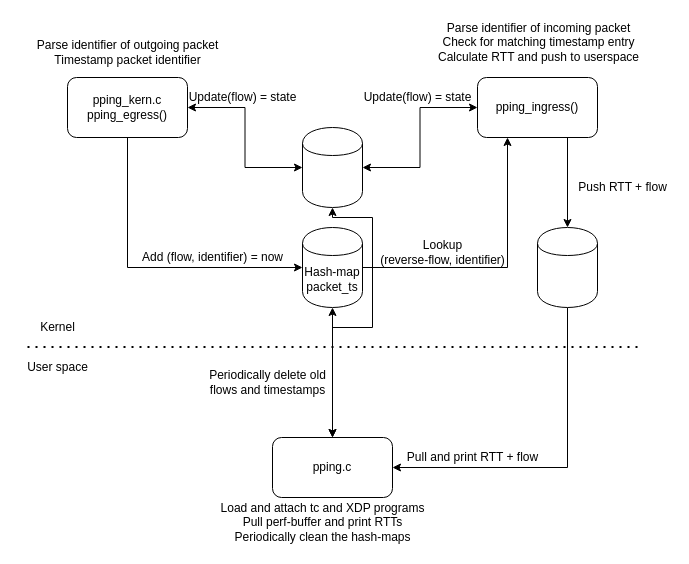
Some shapes in this 689 by 564 pixel diagram are drawn without their labels. The box of each missing label's shape, as (x1, y1, x2, y2) in pixels:
Hash-map flow_state: (302, 126, 362, 208)
Perf-buffer rtt_events: (536, 226, 598, 308)
